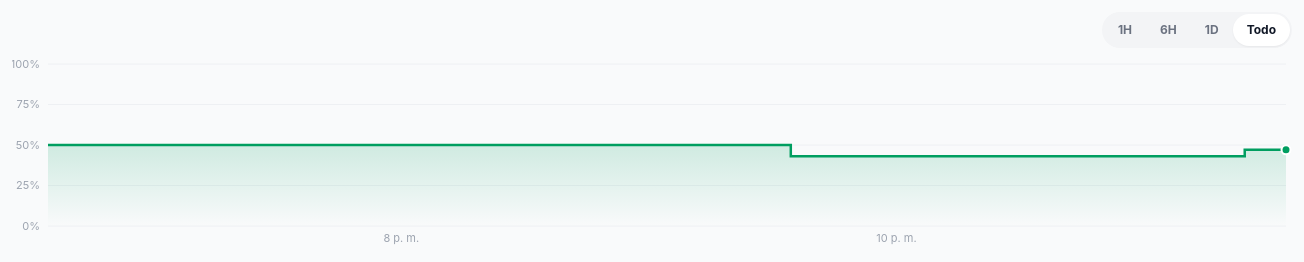
Test: PriceChart / GroupChart / NetWorthChart / PortfolioChart › mercado: cada filtro vuelve a pedir el historial con su ventana y no queda el esqueleto
The image size is (1304, 262).
Click the tab "1H".
click(1125, 30)  # box [1104,14,1146,46]
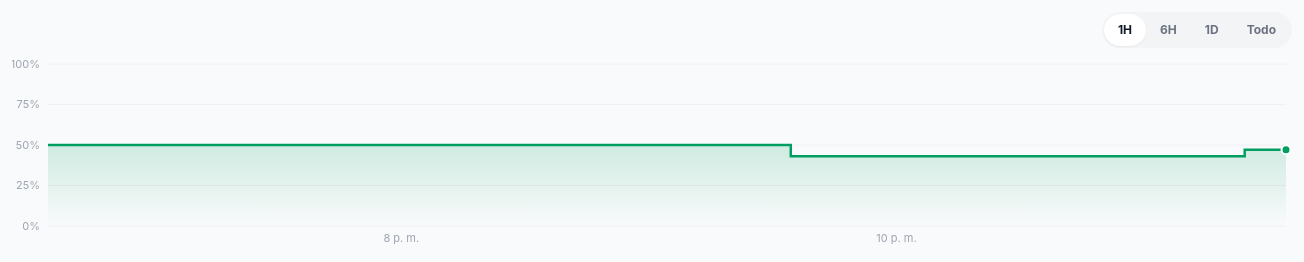
Click the tab "6H".
click(1168, 30)  # box [1146,14,1191,46]
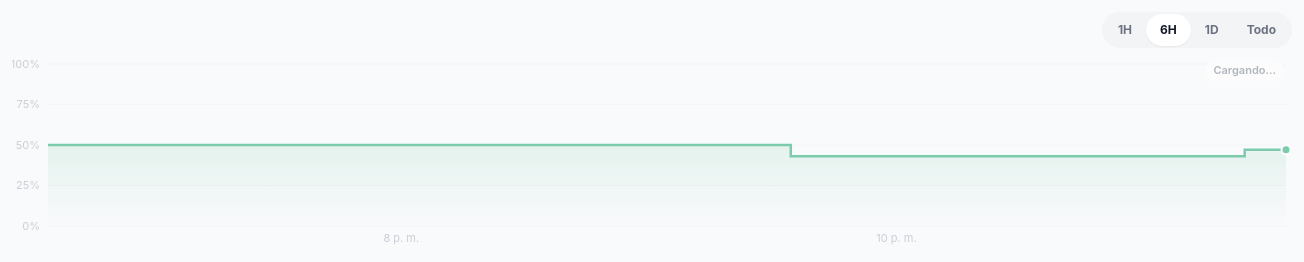
Click the tab "1D".
click(1212, 30)  # box [1191,14,1233,46]
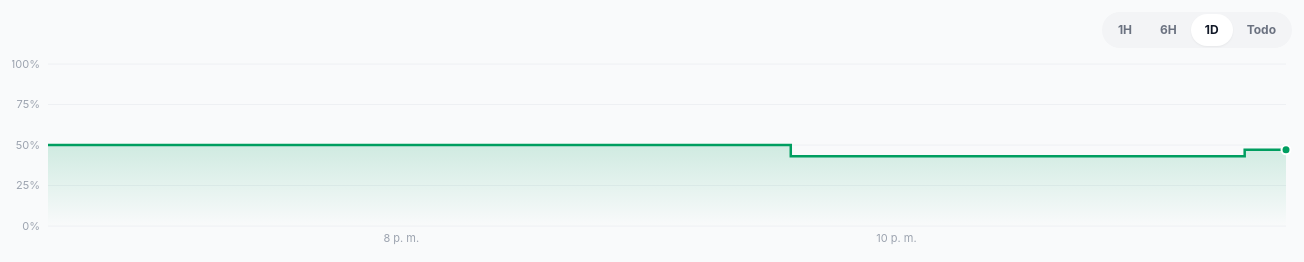
Check: the text "Cargando…" is gone
